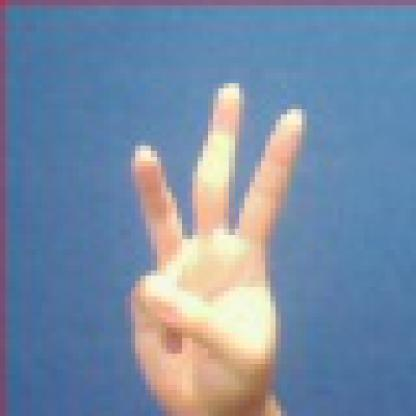three: (83, 73, 328, 411)
